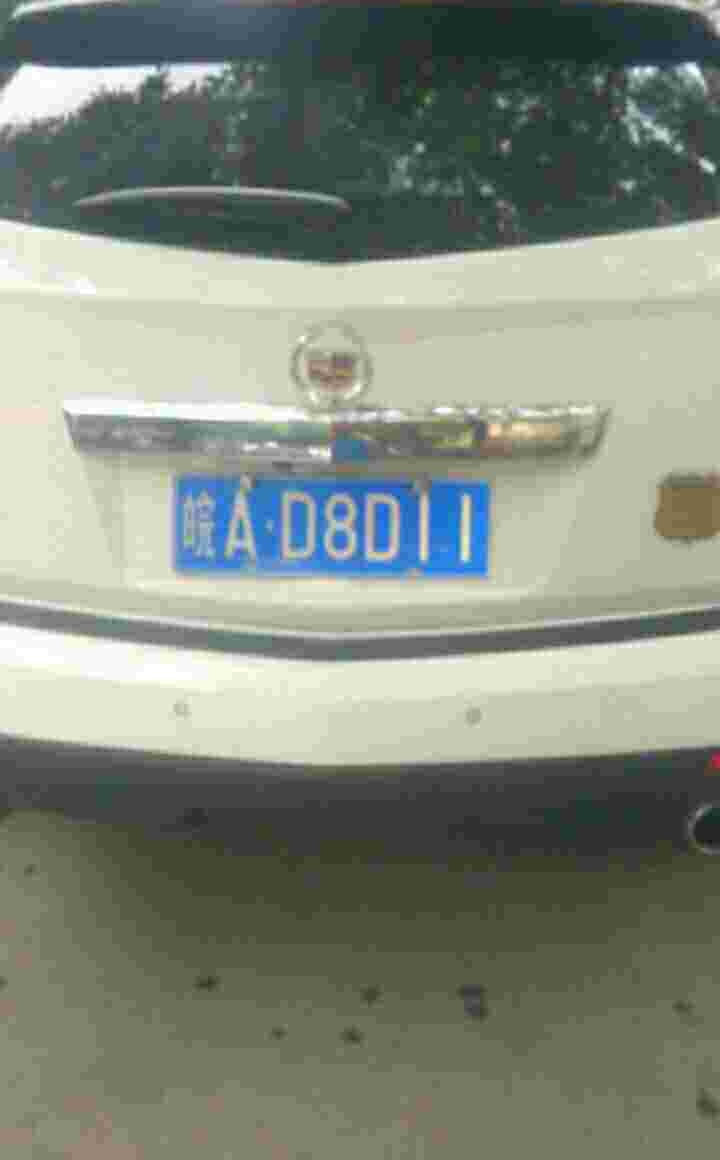license_plate: (175, 471, 495, 581)
